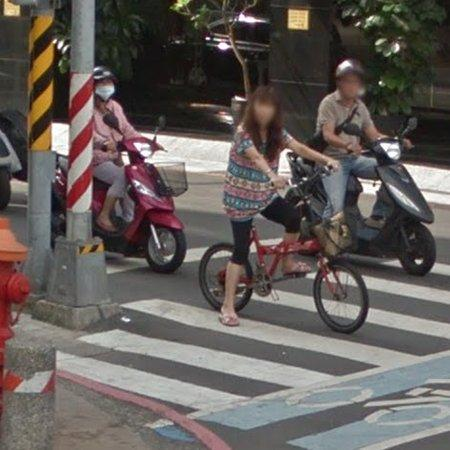crosswalks: (55, 263, 450, 414)
